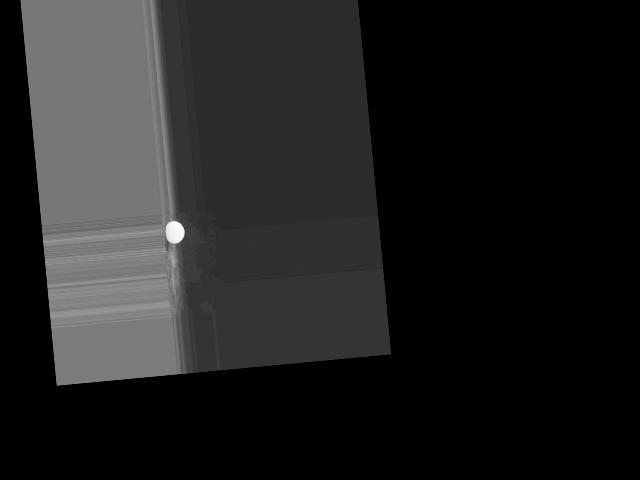egg: (164, 220, 185, 244)
